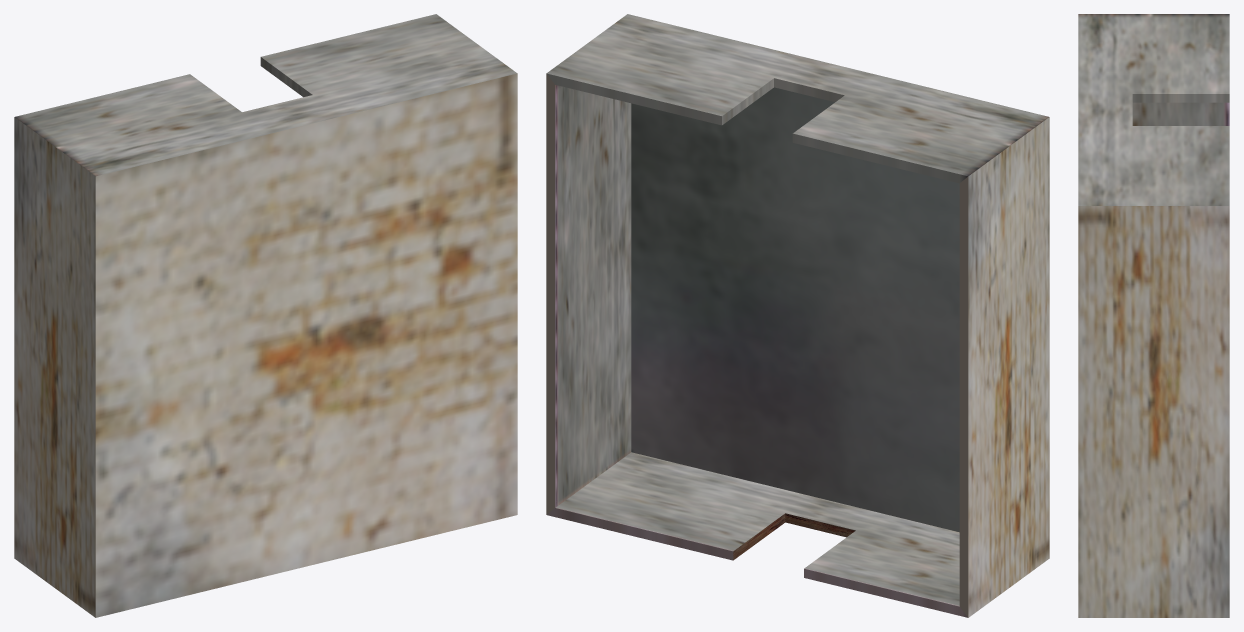
Rendered from 6x6NS_wtf.obj.
The picture shows the model from 3 angles, left to right: view 1: azimuth 30°, elevation 25°; view 2: azimuth 150°, elevation 25°; view 3: azimuth 270°, elevation 25°; orthographic projection. The views are drawn at different scales.
Visible parts, largest first — view 1: group2; view 2: group2; view 3: group2.
Part boxes in pixels (x1,y1,x2,y2): group2: (14, 14, 517, 617); group2: (546, 14, 1049, 617); group2: (1078, 14, 1229, 617).
Size of the model in its own units: 660 by 660 by 220.
